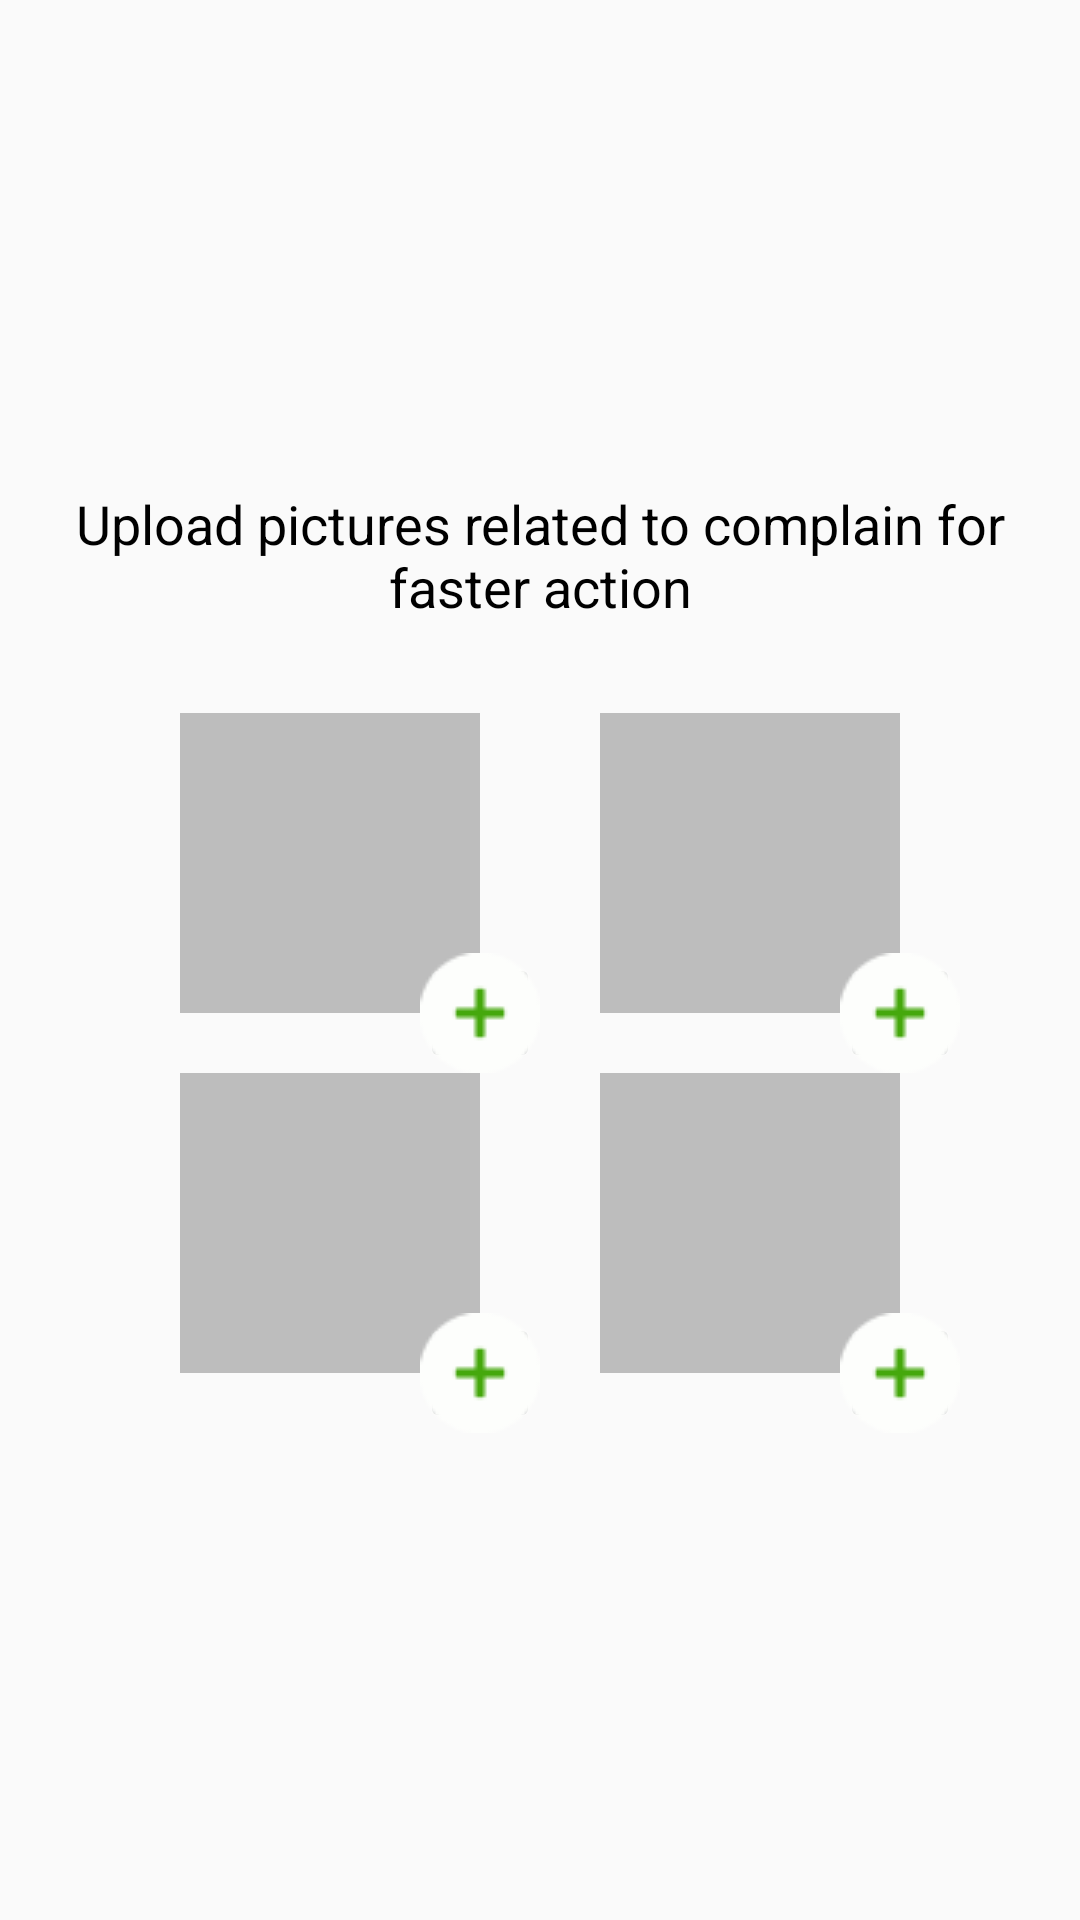

Named icons in this screenshot (1080w x 1920h) and their centers, [x,y]:
imageaddbtn: [480,1013], [900,1013], [480,1373], [900,1373]
